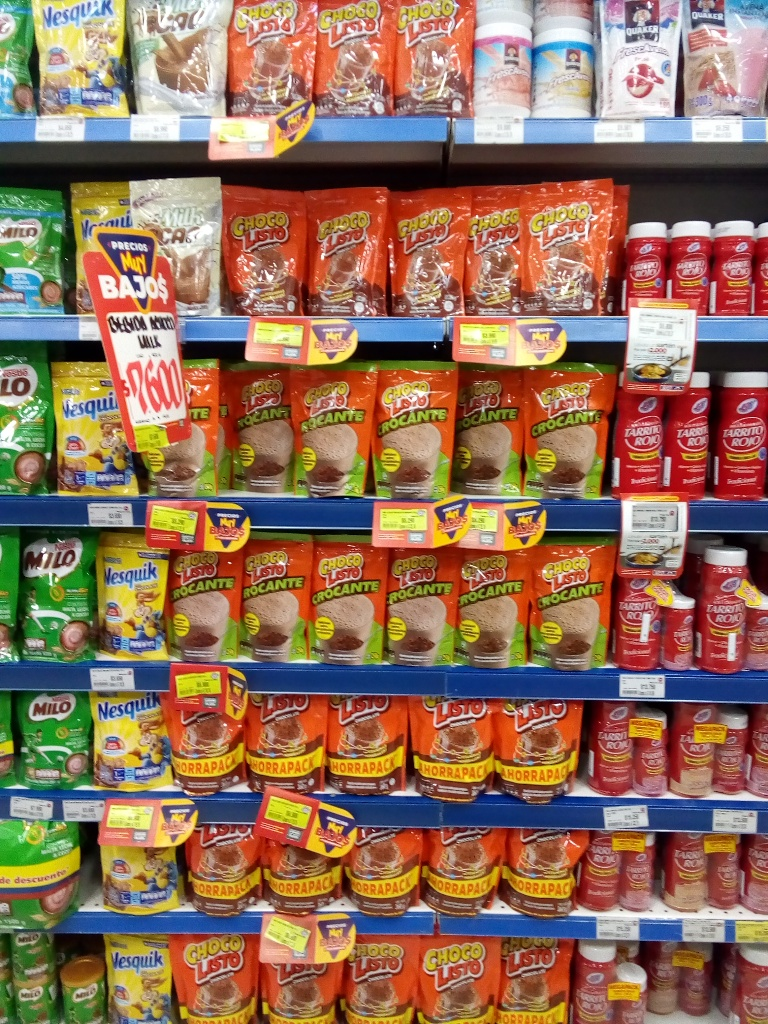COL0170102DYP25000: (528, 524, 613, 671)
COL0170103DYP20000: (223, 0, 315, 113)
COL0170103DYP36000: (172, 926, 256, 1024)
COL0170203DYP25000: (13, 524, 98, 665)
COL0170203LAT40000: (60, 954, 106, 1022)
COL0170205DYP20000: (2, 183, 77, 314)
COL0170303DYP20000: (92, 523, 173, 665)
